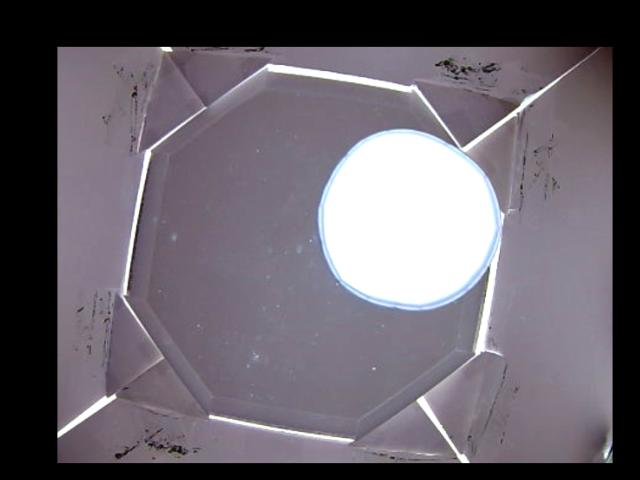Cup: (315, 129, 500, 307)
